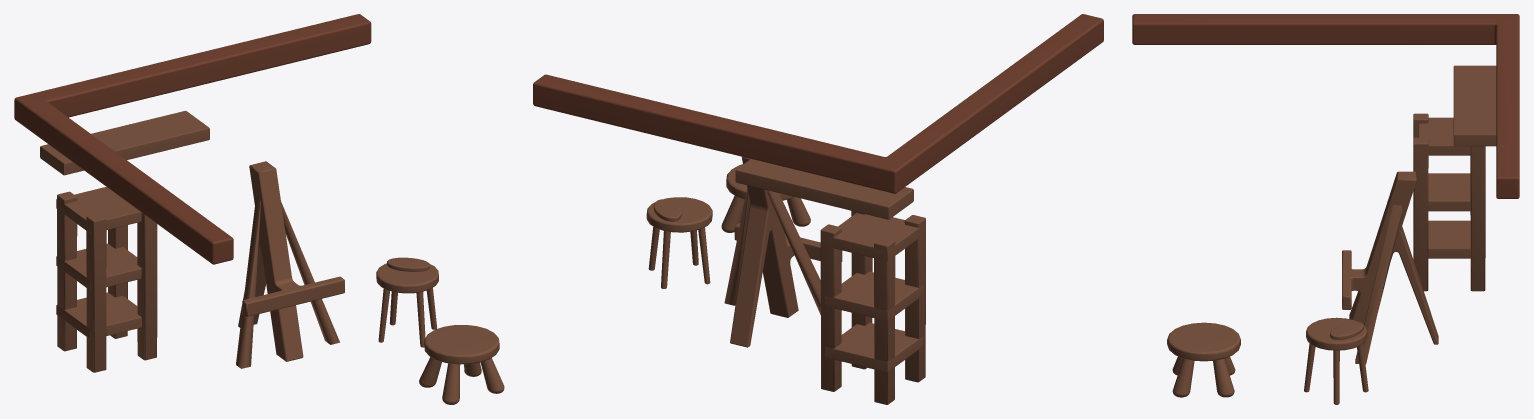
The model's file is LightWooded2OBJ.obj.
The picture shows the model from 3 angles, left to right: view 1: azimuth 30°, elevation 25°; view 2: azimuth 150°, elevation 25°; view 3: azimuth 270°, elevation 25°; orthographic projection. The views are drawn at different scales.
Parts seen in each view (by area): view 1: Roof, GroundShelf3, Eisel_Detailed4, StoolSeat2, WallShelf2 Shelves, StoolSmall, PaintPad StoolObjects; view 2: Roof, GroundShelf3, Eisel_Detailed4, WallShelf2 Shelves, StoolSmall, StoolSeat2, PaintPad StoolObjects; view 3: Roof, GroundShelf3, Eisel_Detailed4, StoolSeat2, WallShelf2 Shelves, StoolSmall, PaintPad StoolObjects.
Boxes of the visible parts, left/top/right/bottom form: Roof: left=14, top=14, right=371, bottom=264; GroundShelf3: left=56, top=187, right=157, bottom=372; Eisel_Detailed4: left=236, top=161, right=344, bottom=368; StoolSeat2: left=419, top=325, right=504, bottom=404; WallShelf2 Shelves: left=40, top=110, right=209, bottom=175; StoolSmall: left=376, top=263, right=438, bottom=347; PaintPad StoolObjects: left=387, top=257, right=429, bottom=271; Roof: left=533, top=14, right=1103, bottom=193; GroundShelf3: left=820, top=210, right=925, bottom=404; Eisel_Detailed4: left=724, top=157, right=842, bottom=347; WallShelf2 Shelves: left=735, top=159, right=913, bottom=219; StoolSmall: left=646, top=197, right=712, bottom=288; StoolSeat2: left=721, top=164, right=810, bottom=233; PaintPad StoolObjects: left=653, top=199, right=681, bottom=221; Roof: left=1132, top=14, right=1519, bottom=198; GroundShelf3: left=1413, top=113, right=1485, bottom=291; Eisel_Detailed4: left=1342, top=171, right=1438, bottom=364; StoolSeat2: left=1167, top=322, right=1240, bottom=397; WallShelf2 Shelves: left=1453, top=65, right=1496, bottom=146; StoolSmall: left=1304, top=317, right=1368, bottom=404; PaintPad StoolObjects: left=1330, top=321, right=1363, bottom=339.
Bounding box in the file's own units: 8.26 × 5.55 × 8.22.
